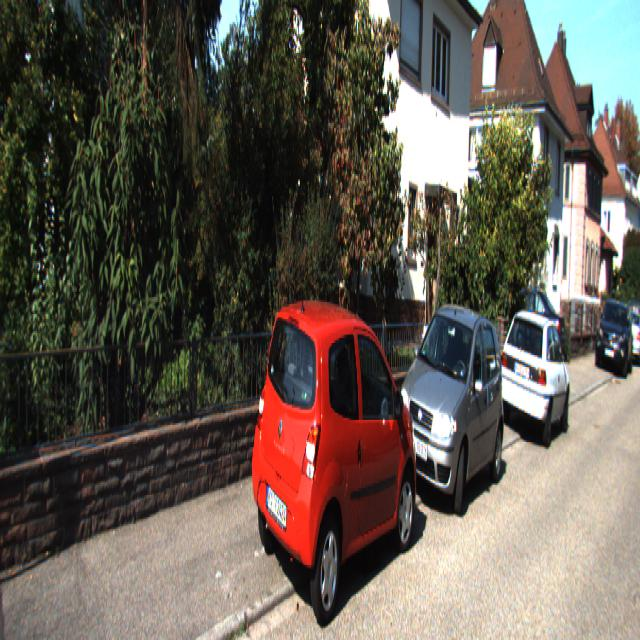Car: (251, 287, 421, 638), (394, 296, 506, 525), (498, 308, 572, 448), (592, 296, 636, 375)
